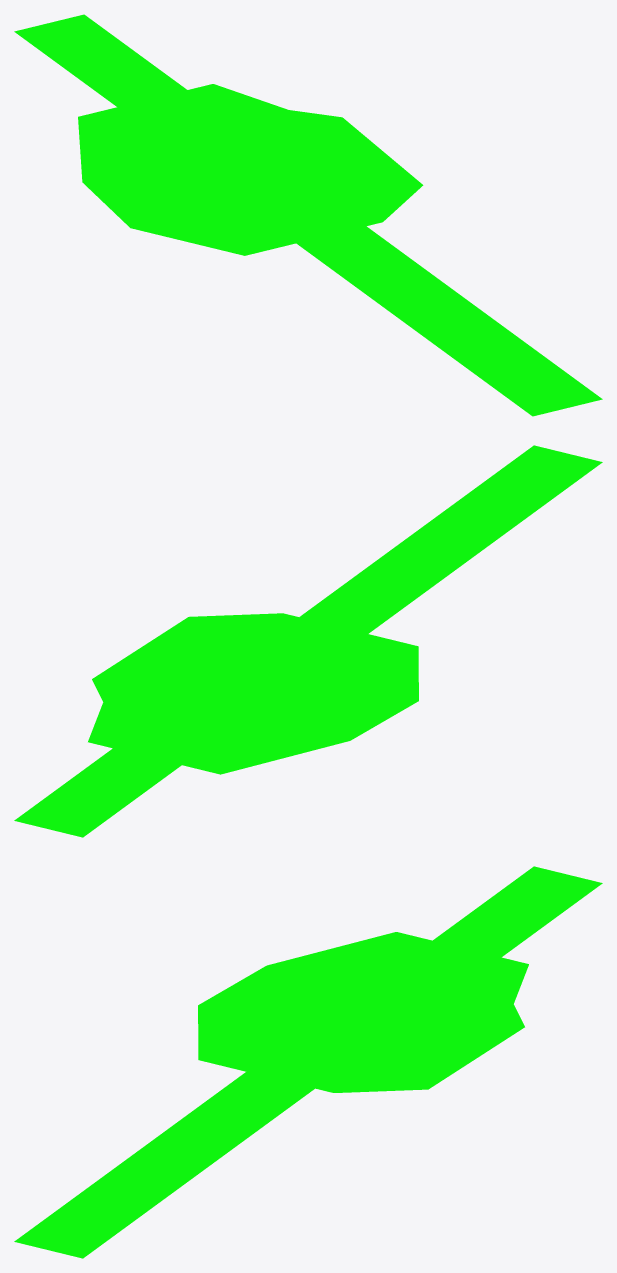
The model's file is s05b_sa1-floor.glb.
The picture shows the model from 3 angles, top to bottom: view 1: azimuth 30°, elevation 25°; view 2: azimuth 150°, elevation 25°; view 3: azimuth 330°, elevation 25°; orthographic projection.
Visible parts, largest first — view 1: collision_floor-colonly; view 2: collision_floor-colonly; view 3: collision_floor-colonly.
Part boxes in pixels (left/top/right/bottom): collision_floor-colonly: left=14, top=14, right=602, bottom=416; collision_floor-colonly: left=14, top=445, right=602, bottom=837; collision_floor-colonly: left=14, top=866, right=602, bottom=1258.
Bounding box in the file's own units: 23.28 × 0.1016 × 77.5.
